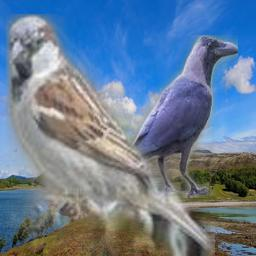Crow: (97, 35, 238, 198)
Sparrow: (6, 14, 215, 256)
